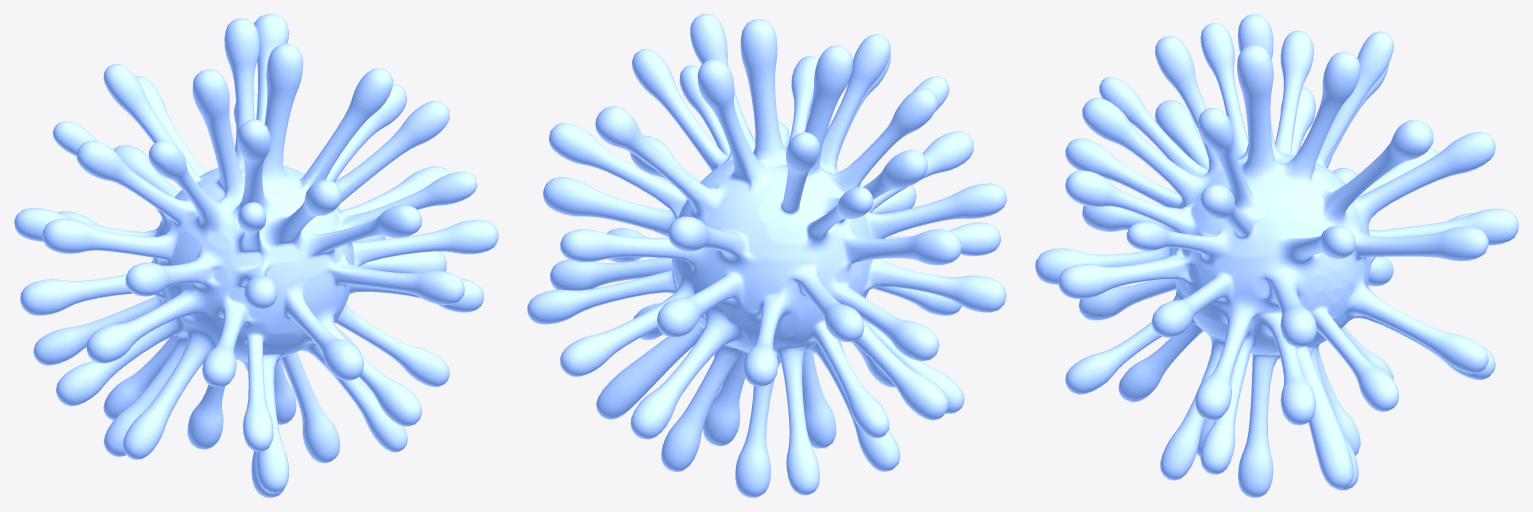
The picture shows the model from 3 angles, left to right: view 1: azimuth 30°, elevation 25°; view 2: azimuth 150°, elevation 25°; view 3: azimuth 270°, elevation 25°; orthographic projection.
Visible parts, largest first — view 1: Corona VIrus; view 2: Corona VIrus; view 3: Corona VIrus.
Part boxes in pixels (x1,y1,x2,y2): Corona VIrus: [14, 14, 498, 497]; Corona VIrus: [527, 14, 1006, 497]; Corona VIrus: [1035, 14, 1518, 497].
Bounding box in the file's own units: 1.31 × 1.31 × 1.33.
